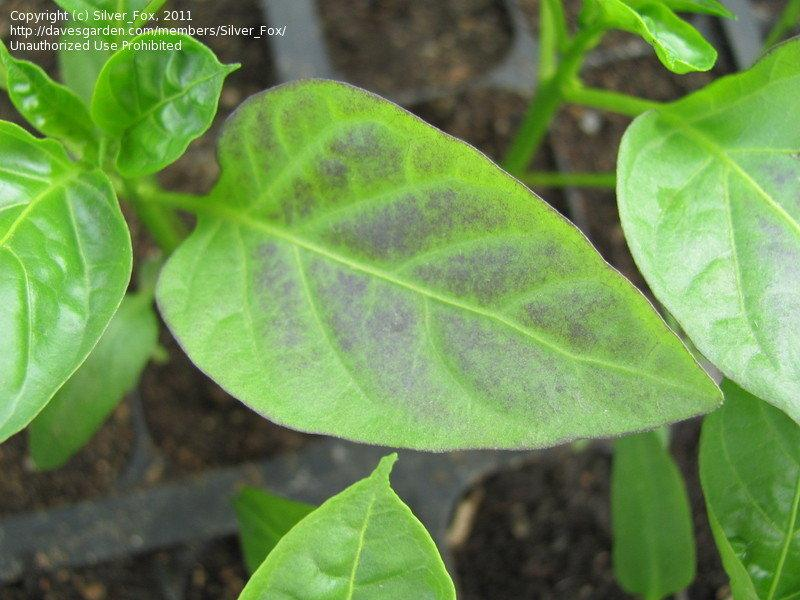Bell_pepper leaf spot: (208, 56, 800, 332)
